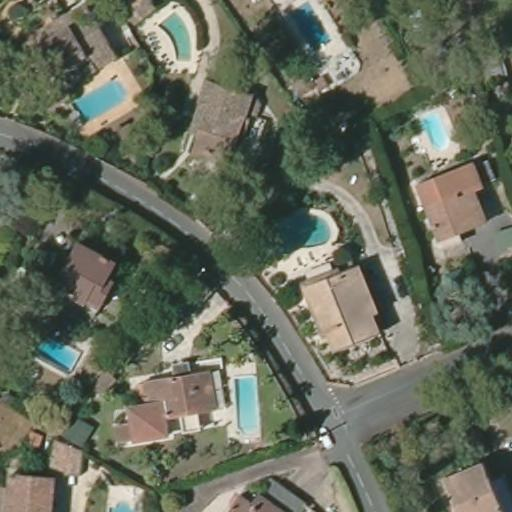pool: (60, 73, 131, 123), (257, 207, 335, 251), (271, 1, 331, 57), (26, 329, 90, 374), (150, 8, 198, 65), (228, 367, 265, 440), (417, 104, 450, 152)
